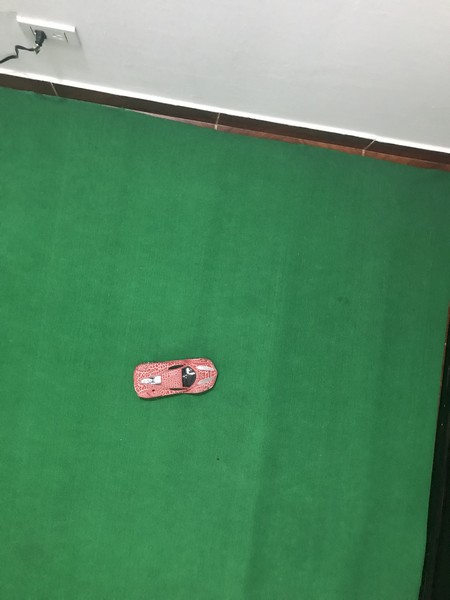RC: (129, 352, 219, 402)
